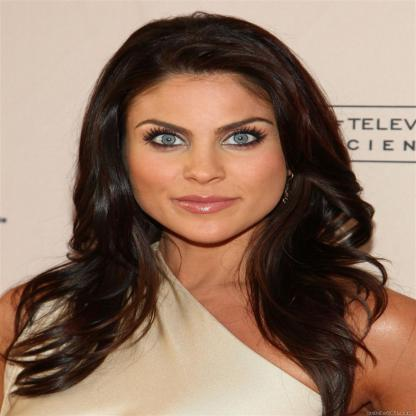long-hair: (54, 249, 366, 287)
